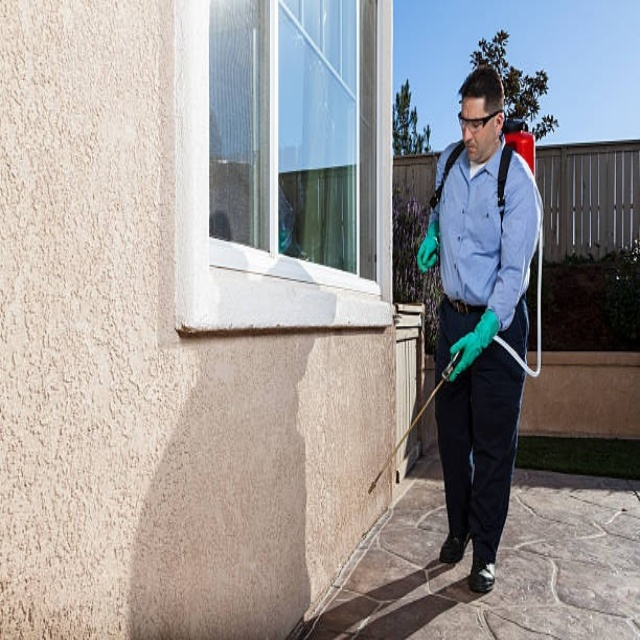Gafas: (458, 110, 501, 130)
Guantes: (444, 301, 505, 383), (415, 205, 443, 271)
Sin_mascara: (462, 133, 482, 162)
